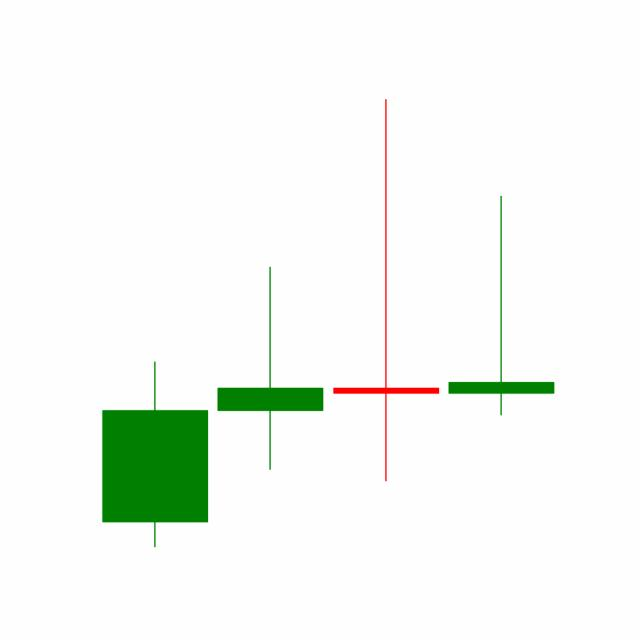Spinning Top: (443, 193, 559, 418)
